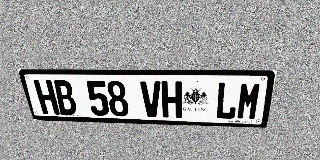5: (86, 80, 110, 116)
8: (106, 81, 129, 117)
B: (52, 80, 78, 115)
H: (33, 80, 60, 115), (161, 81, 182, 118)
L: (215, 82, 239, 120)
M: (236, 82, 263, 120)
V: (140, 81, 162, 117)
